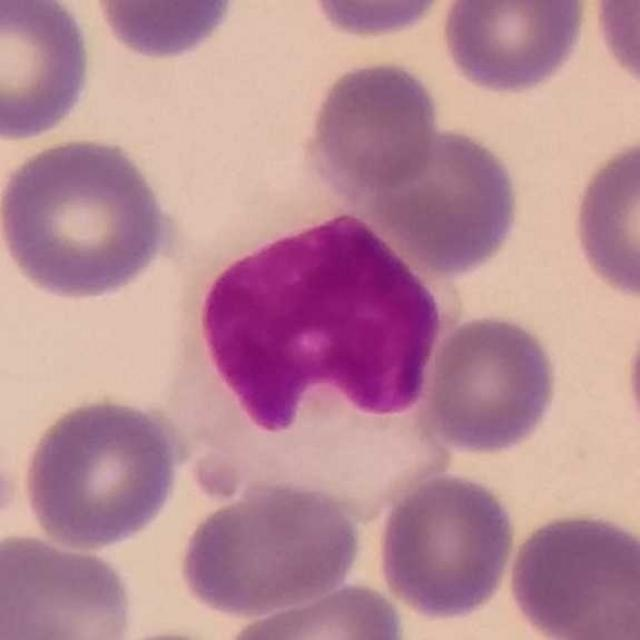Lymphocyte: (166, 195, 465, 515)
RBC: (0, 132, 177, 304), (18, 392, 187, 553), (175, 476, 365, 619), (356, 120, 524, 276), (373, 469, 520, 623), (419, 310, 563, 458), (303, 56, 442, 197), (503, 505, 639, 640), (0, 530, 139, 640), (436, 0, 592, 98), (0, 0, 97, 144), (567, 131, 640, 303), (219, 577, 410, 640), (86, 0, 242, 66), (303, 0, 457, 41), (556, 572, 638, 640), (589, 0, 640, 97), (621, 299, 640, 462)
